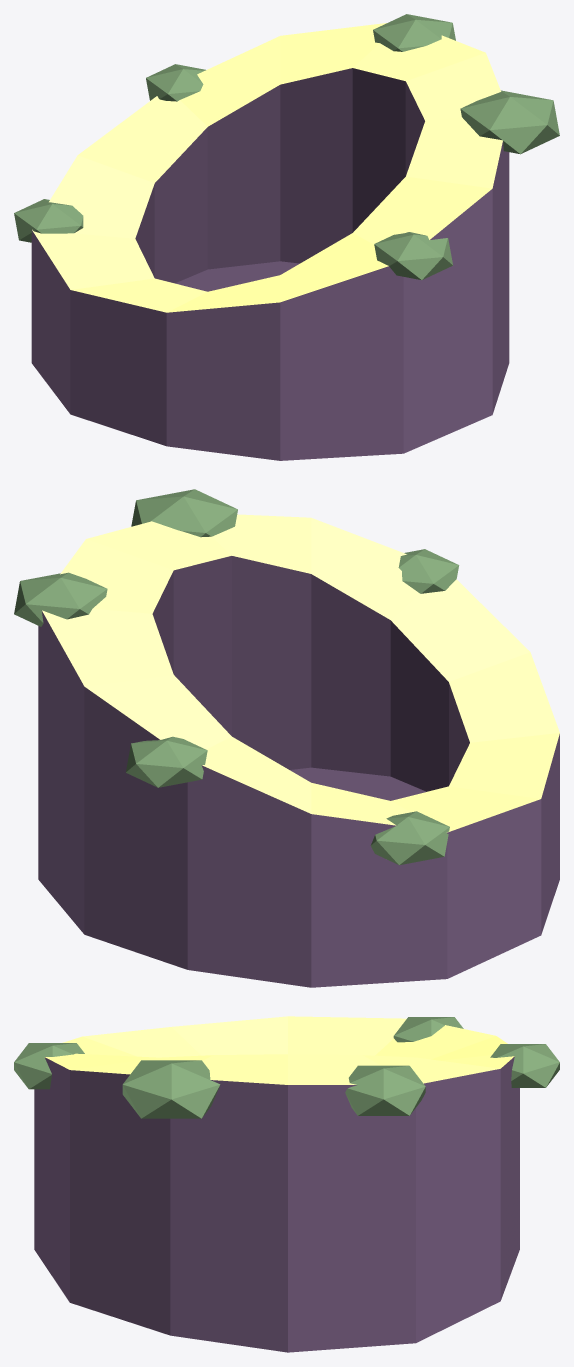
Rendered from moss_stump.glb.
3 views of the same model, one above another, from view 1: azimuth 30°, elevation 25°; view 2: azimuth 150°, elevation 25°; view 3: azimuth 270°, elevation 25° (orthographic). The views are drawn at different scales.
Visible parts, largest first — view 1: MStump_Body, MStump_Moss_3, MStump_Moss_4, MStump_Moss_2, MStump_Moss_1, MStump_Moss_0; view 2: MStump_Body, MStump_Moss_3, MStump_Moss_2, MStump_Moss_0, MStump_Moss_1, MStump_Moss_4; view 3: MStump_Body, MStump_Moss_3, MStump_Moss_2, MStump_Moss_0, MStump_Moss_4, MStump_Moss_1.
Boxes of the visible parts, x1,y1,x2,y2 form: MStump_Body: (31,23,509,460); MStump_Moss_3: (460,90,559,154); MStump_Moss_4: (374,232,452,280); MStump_Moss_2: (373,14,455,51); MStump_Moss_1: (14,199,83,242); MStump_Moss_0: (146,64,205,101); MStump_Body: (38,514,559,987); MStump_Moss_3: (131,489,237,537); MStump_Moss_2: (14,572,107,626); MStump_Moss_0: (126,736,207,787); MStump_Moss_1: (370,811,449,865); MStump_Moss_4: (398,549,459,593); MStump_Body: (34,1016,519,1352); MStump_Moss_3: (122,1060,220,1118); MStump_Moss_2: (345,1065,425,1115); MStump_Moss_0: (490,1044,559,1087); MStump_Moss_4: (14,1043,84,1089); MStump_Moss_1: (393,1017,463,1042).
Size of the model in its own units: 1.19 by 0.7038 by 1.28.
